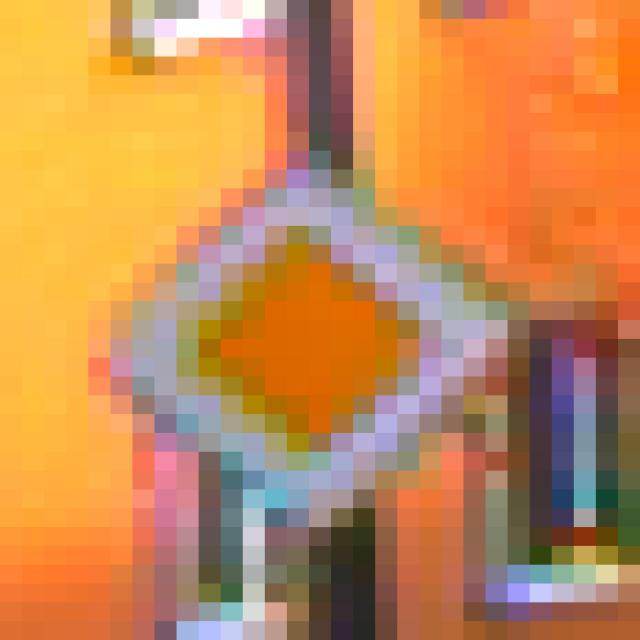Main Road: (111, 114, 531, 547)
